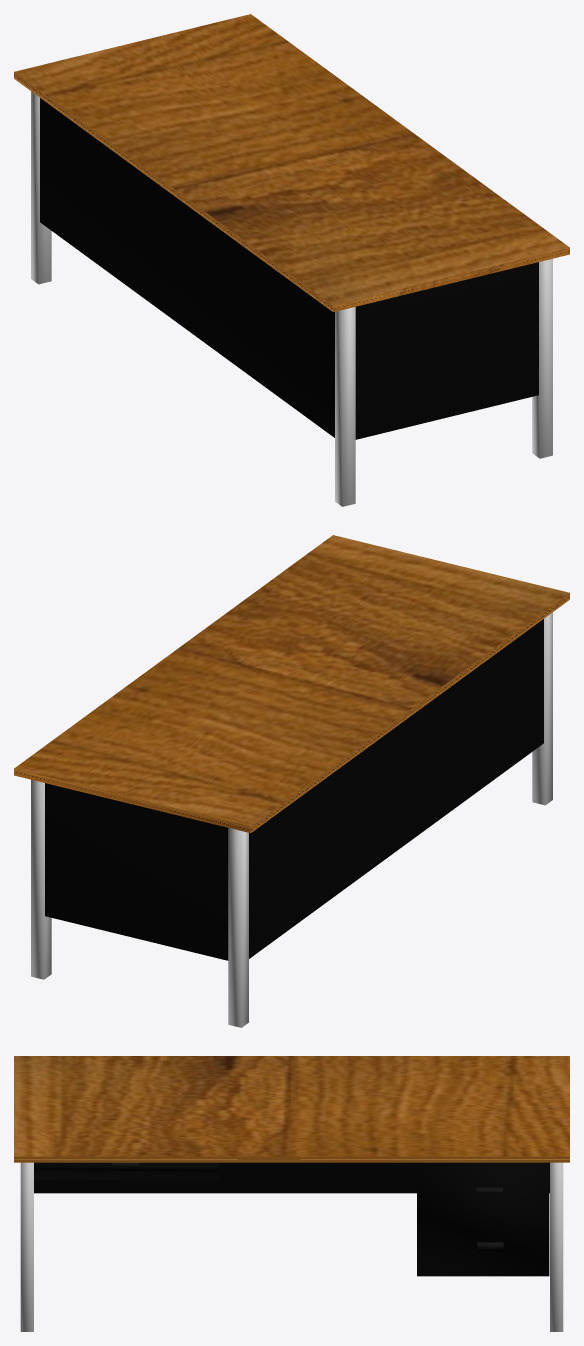
The model's file is teach_desk.fbx.
The picture shows the model from 3 angles, top to bottom: view 1: azimuth 30°, elevation 25°; view 2: azimuth 150°, elevation 25°; view 3: azimuth 270°, elevation 25°; orthographic projection. The views are drawn at different scales.
Parts seen in each view (by area): view 1: TableTop, BackSide, LeftSide, BackLeftLeg, FrontLeftLeg, BackRightLeg; view 2: TableTop, BackSide, RightSide, BackRightLeg, FrontRightLeg, BackLeftLeg; view 3: TableTop, Drawers, BackSide, PullOutDrawr, FrontRightLeg, FrontLeftLeg.
Part boxes in pixels (left/top/right/bottom): TableTop: left=14, top=14, right=569, bottom=312; BackSide: left=40, top=98, right=334, bottom=437; LeftSide: left=355, top=262, right=538, bottom=439; BackLeftLeg: left=335, top=307, right=355, bottom=506; FrontLeftLeg: left=532, top=258, right=552, bottom=458; BackRightLeg: left=31, top=91, right=51, bottom=284; TableTop: left=14, top=535, right=569, bottom=833; BackSide: left=249, top=619, right=543, bottom=958; RightSide: left=45, top=783, right=228, bottom=960; BackRightLeg: left=228, top=828, right=248, bottom=1027; FrontRightLeg: left=31, top=779, right=51, bottom=979; BackLeftLeg: left=532, top=612, right=552, bottom=805; TableTop: left=14, top=1056, right=569, bottom=1162; Drawers: left=417, top=1162, right=549, bottom=1276; BackSide: left=34, top=1162, right=549, bottom=1193; PullOutDrawr: left=34, top=1162, right=219, bottom=1180; FrontRightLeg: left=550, top=1162, right=563, bottom=1331; FrontLeftLeg: left=20, top=1162, right=33, bottom=1331.
Bounding box in the file's own units: 18 × 15.07 × 42.
7 materials, 1 textured.
